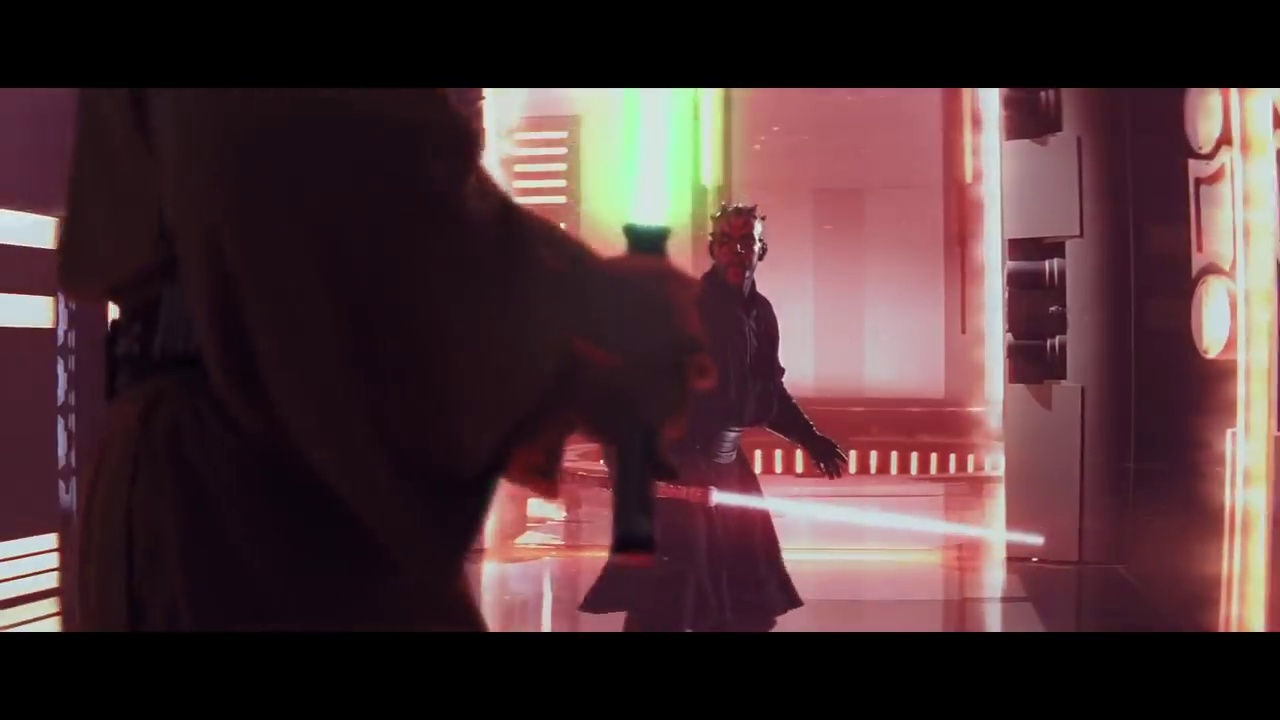lightsaber: (663, 477, 1062, 557)
